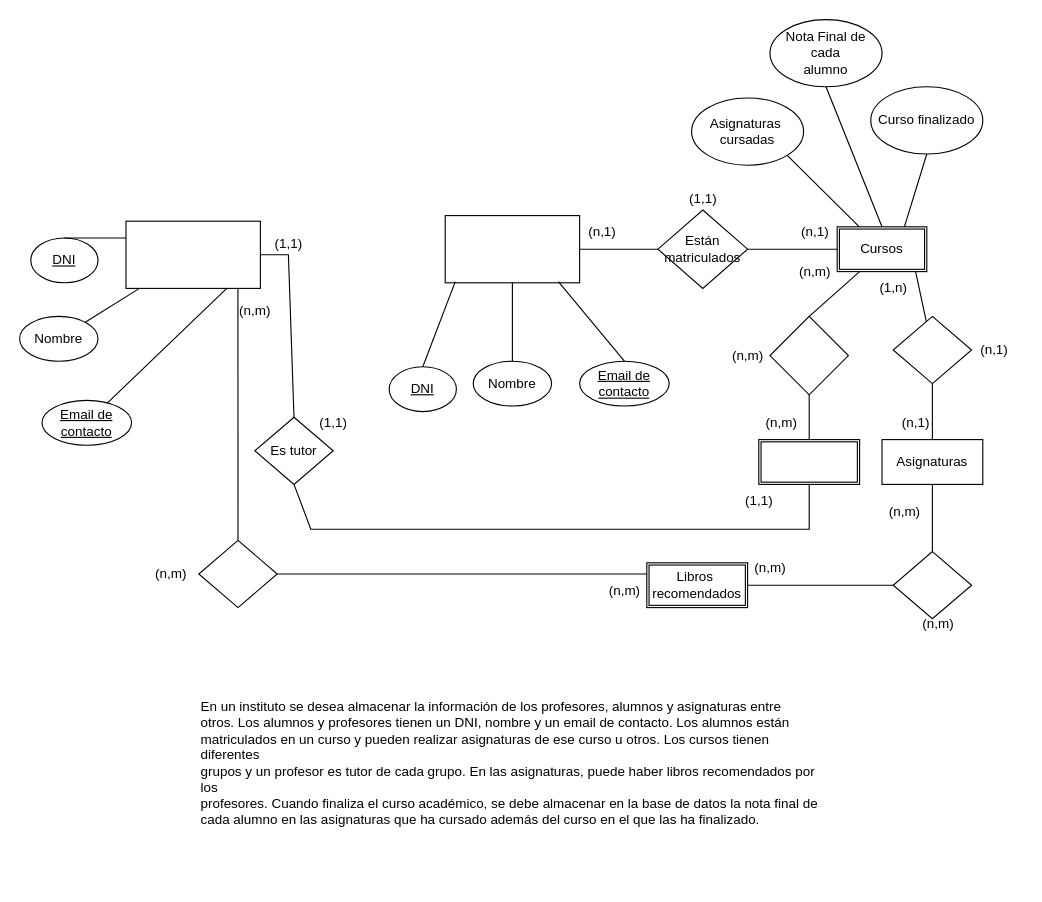
Image size: 1042x902. Some labels were removed from this diagram. The box of each missing label's shape, as (x1, y1, x2, y2) in pixels:
Alumnos: (444, 214, 580, 283)
Grupos: (758, 438, 860, 484)
Profesores: (125, 220, 260, 288)
pueden haber: (892, 550, 972, 619)
Pueden recomendar: (198, 539, 277, 608)
Realizan: (892, 315, 972, 384)
Tienen: (769, 315, 848, 395)
